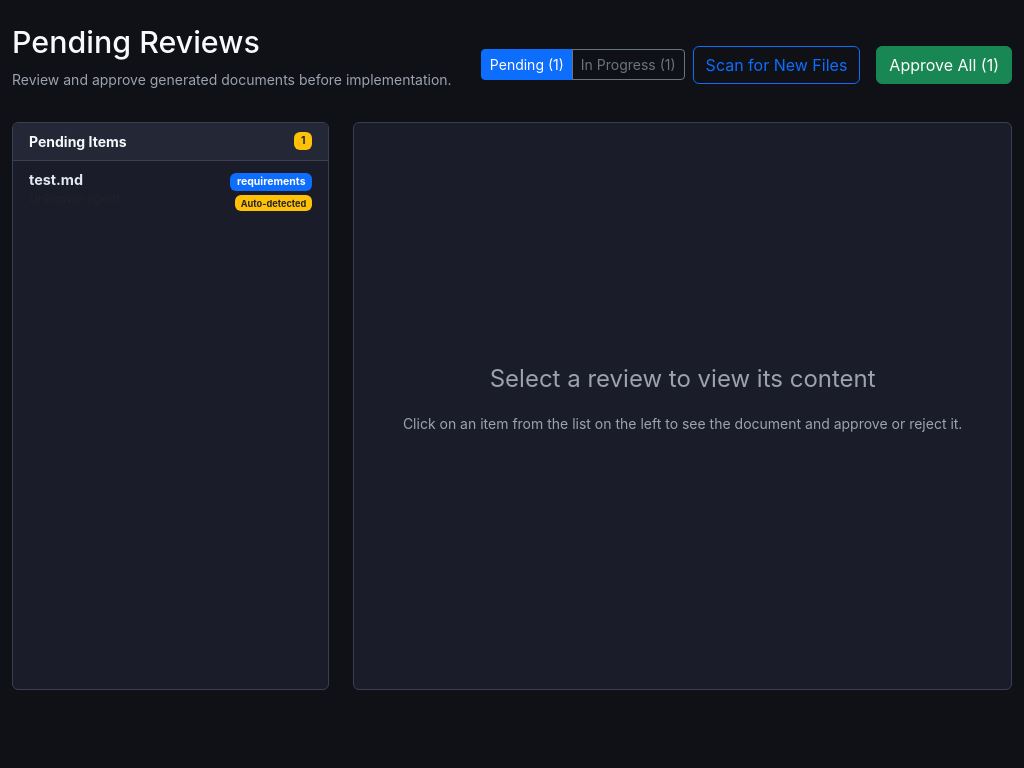
PendingReviewDashboard › Review Selection › shows approve and reject buttons when review selected
Click the text "test.md" at (56, 179), box 29,170 -> 83,188
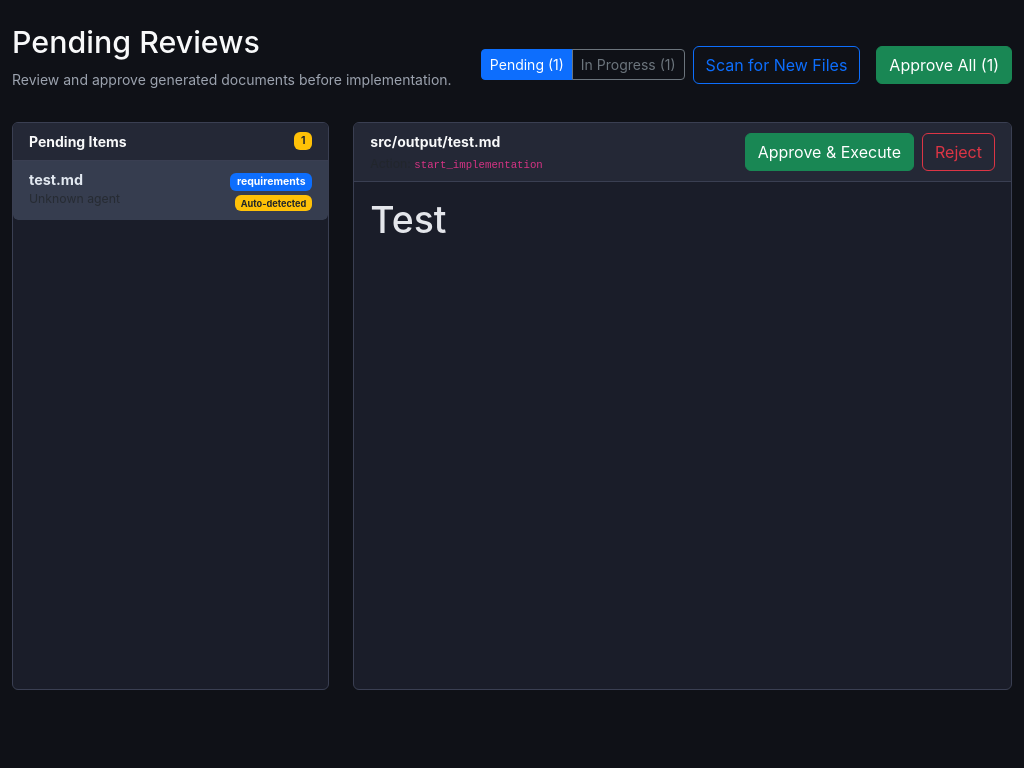
Expected: the button "Reject" is shown, 922,133 -> 995,171
Expected: the button "Approve & Execute" is shown, 745,133 -> 914,171
